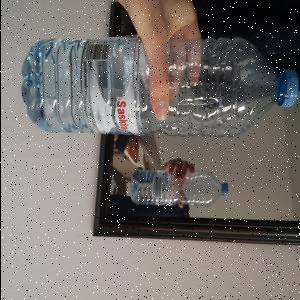Plastic-bottle: (20, 36, 300, 140), (129, 170, 229, 208)
